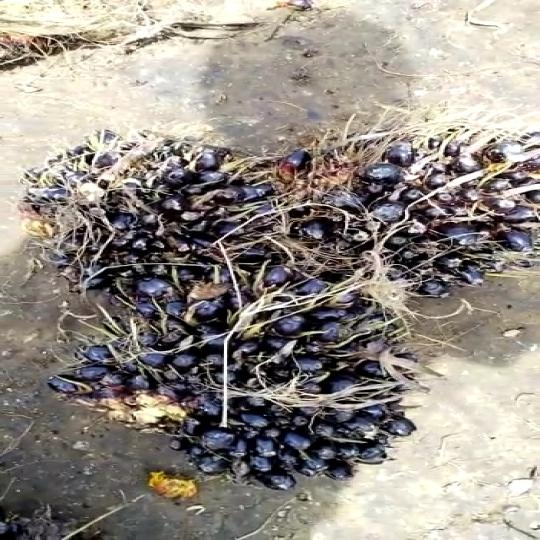mentah: (53, 310, 431, 492), (36, 134, 319, 322), (330, 121, 540, 314)
